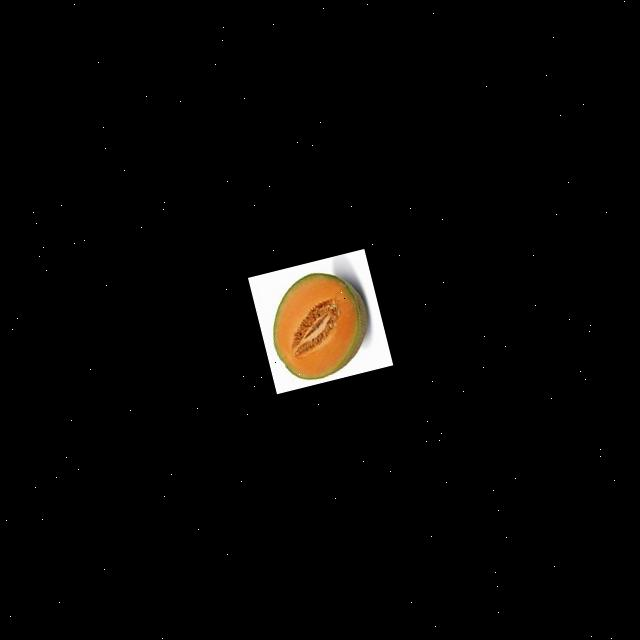Hami Melon: (258, 261, 380, 386)
